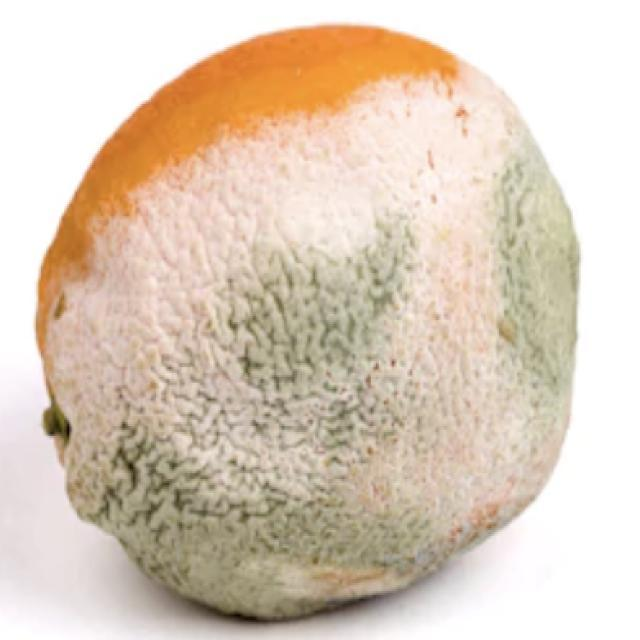sangat-busuk: (36, 27, 577, 618)
